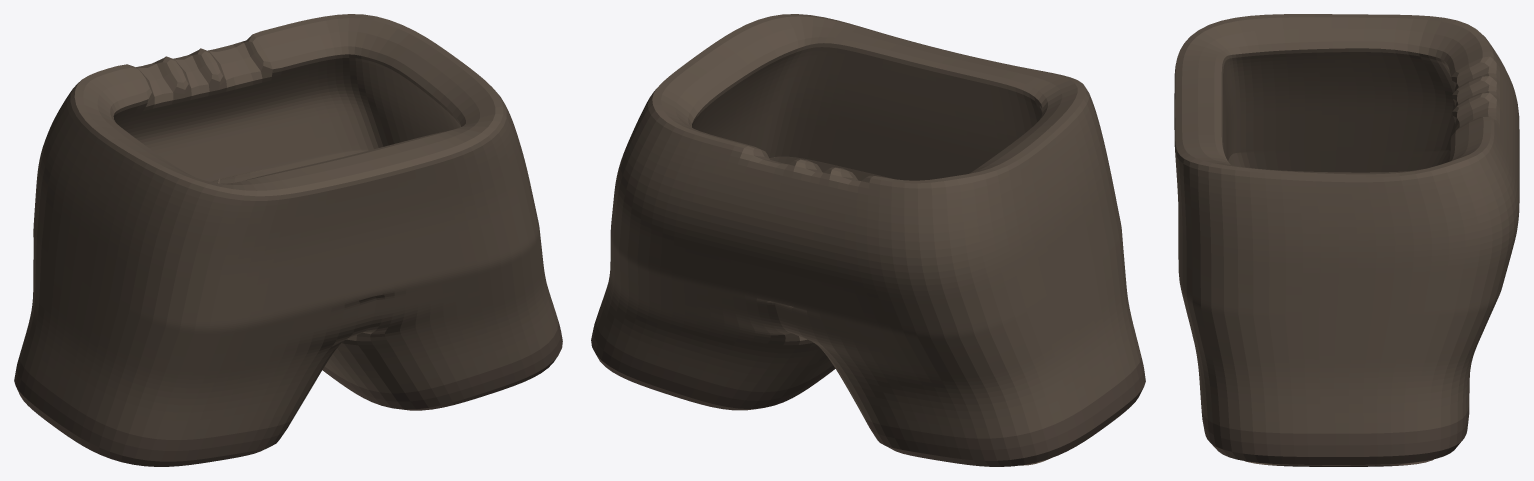
File: Bottom 2.fbx
The picture shows the model from 3 angles, left to right: view 1: azimuth 30°, elevation 25°; view 2: azimuth 150°, elevation 25°; view 3: azimuth 270°, elevation 25°; orthographic projection. The views are drawn at different scales.
Parts seen in each view (by area): view 1: Bottom 2; view 2: Bottom 2; view 3: Bottom 2.
Boxes of the visible parts, x1,y1,x2,y2 form: Bottom 2: (14,14,562,466); Bottom 2: (591,14,1145,466); Bottom 2: (1174,14,1519,466).
Size of the model in its own units: 108 by 63.7 by 69.7.
